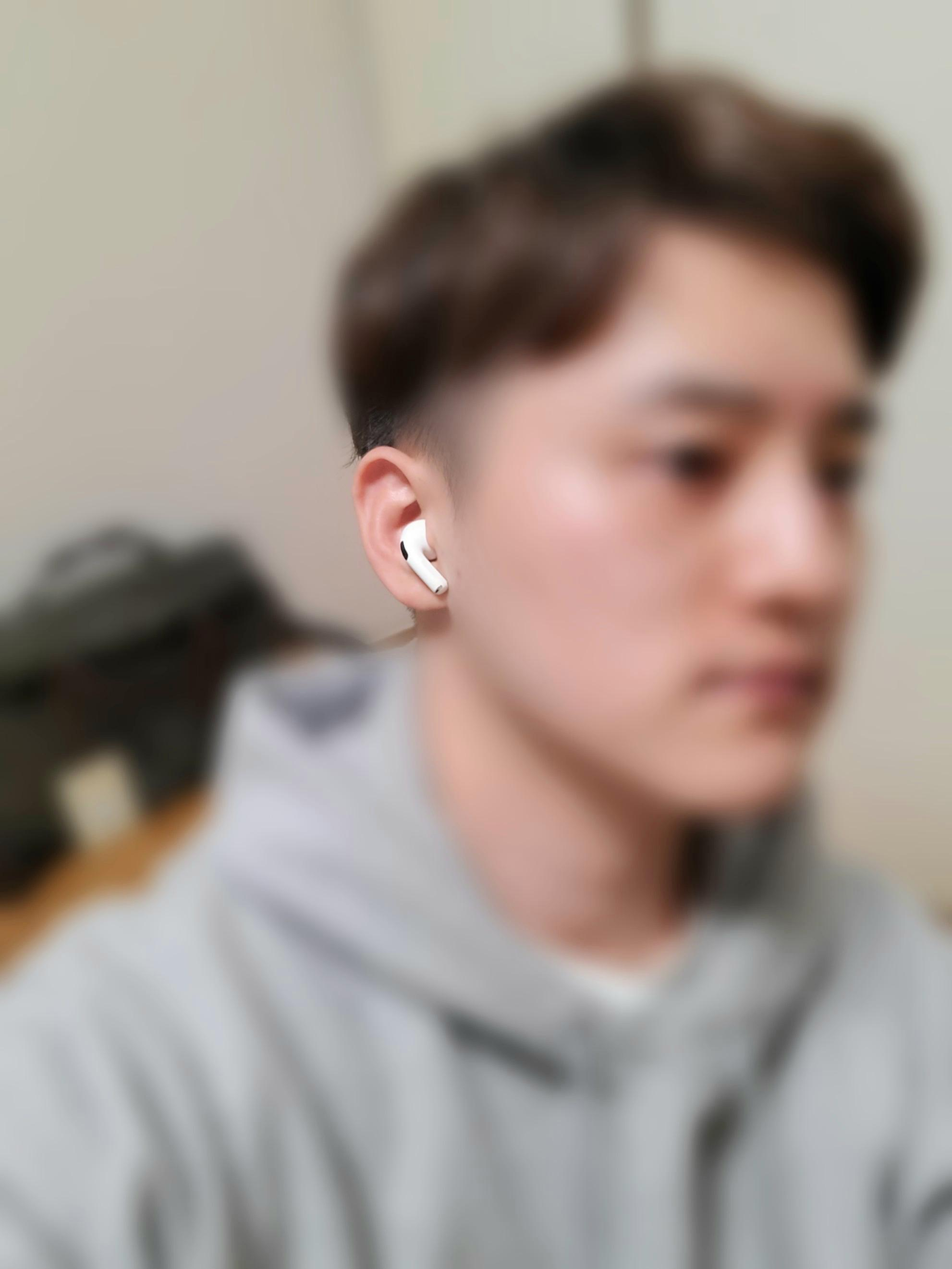earphone: (383, 506, 455, 608)
